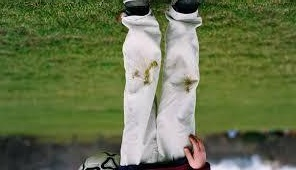earth: (185, 73, 192, 93), (142, 69, 150, 83), (132, 70, 139, 79), (151, 61, 157, 67)
